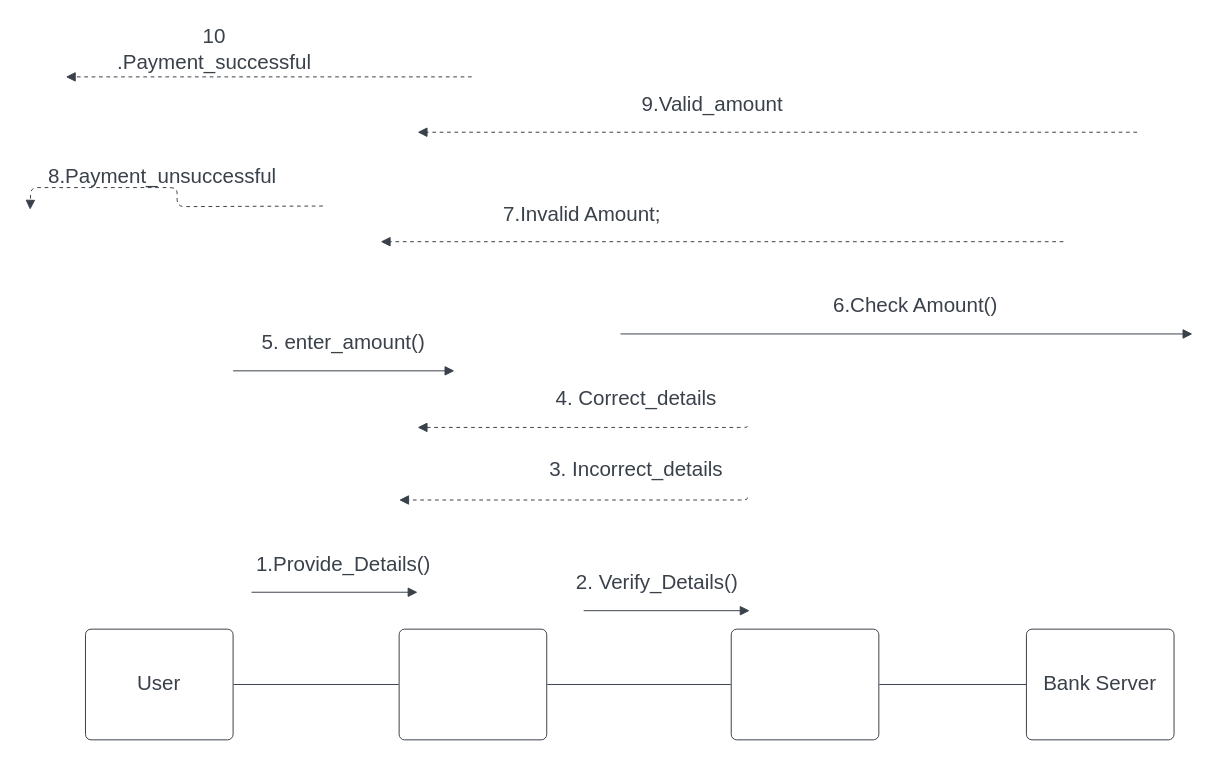
Image size: 1224x761. Some labels were removed from this diagram. Here are the shapes that lost their labels. From the top down, the centre of each, then its label:
At (472,684): "Payment Gui".
At (804,684): "Bank Validation".
